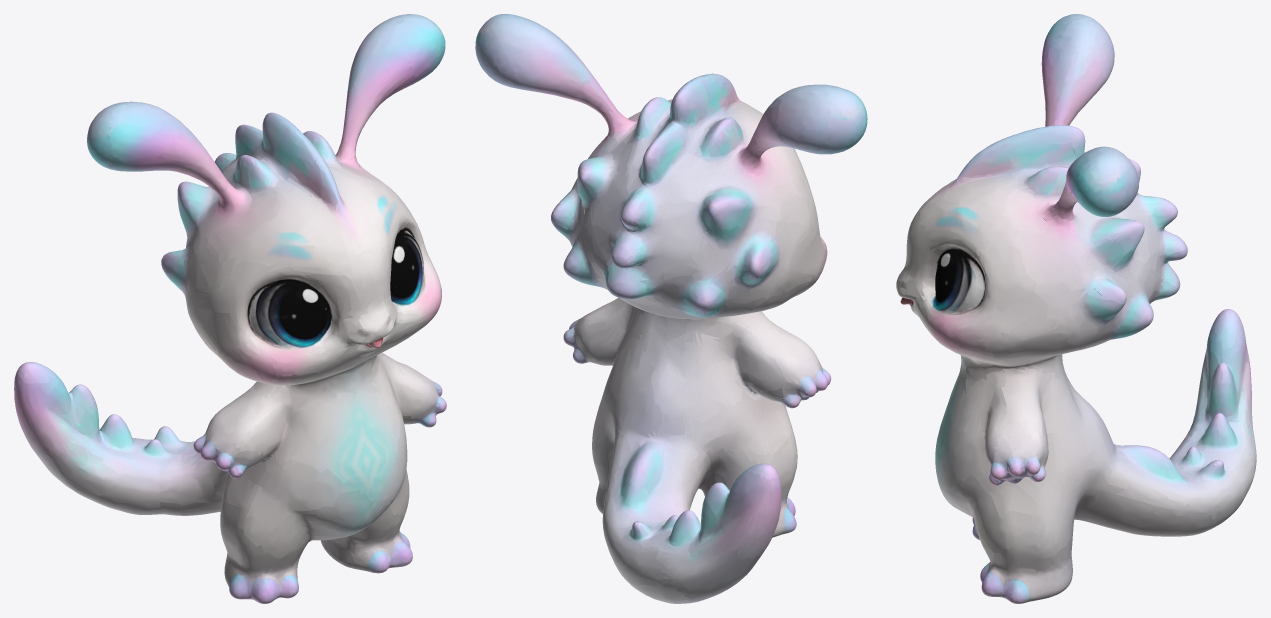
File: form-04.glb
3 renders of one model, left to right at view 1: azimuth 30°, elevation 25°; view 2: azimuth 150°, elevation 25°; view 3: azimuth 270°, elevation 25°, orthographic. The views are drawn at different scales.
Bounding box in the file's own units: 1.47 × 1.9 × 1.31.
Materials: 1 (1 with a texture image).
